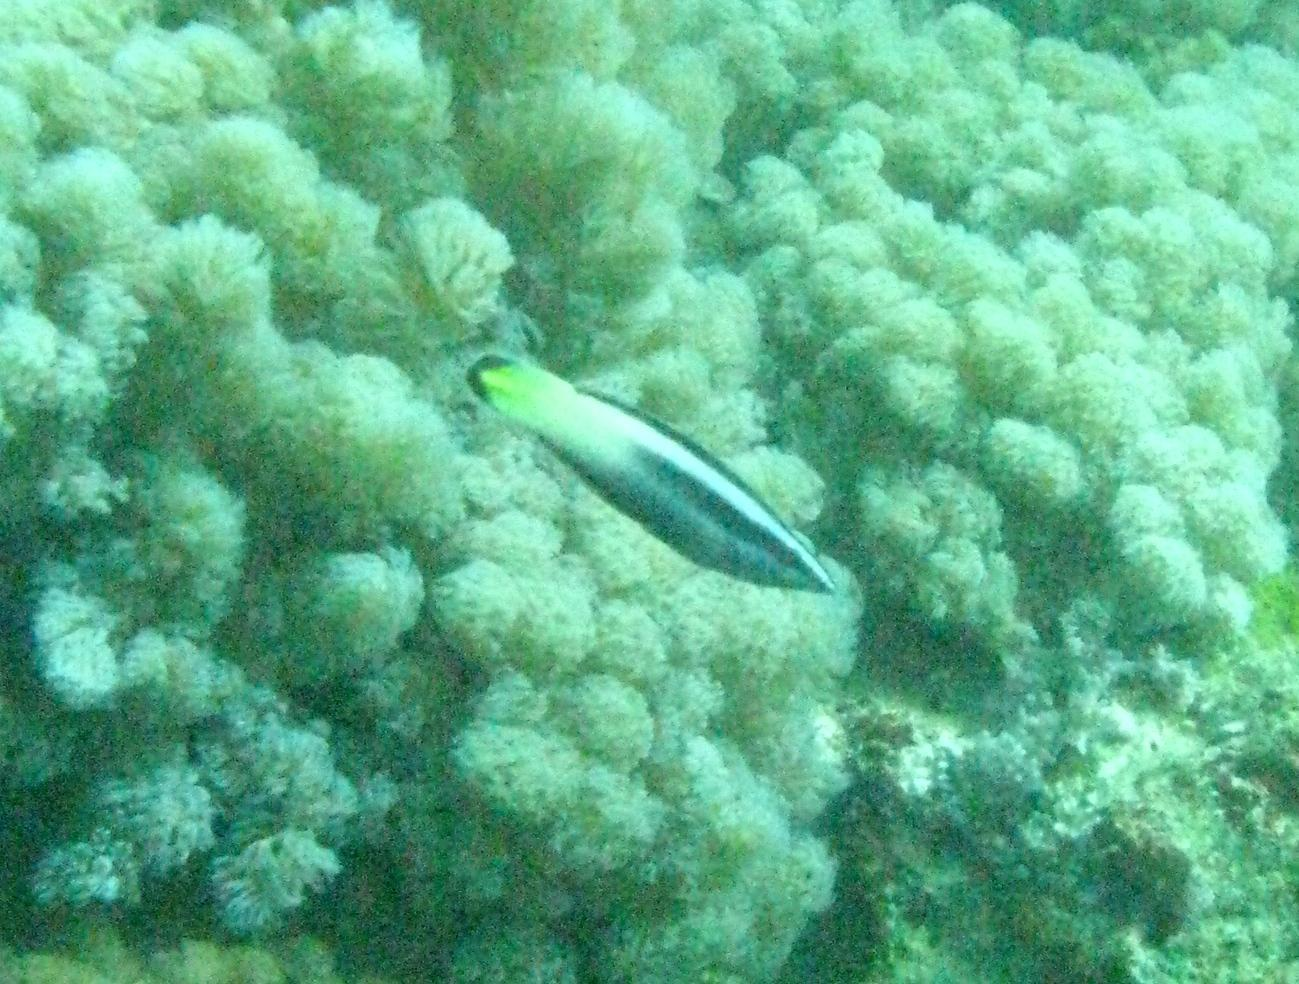Fish: (449, 337, 856, 616)
